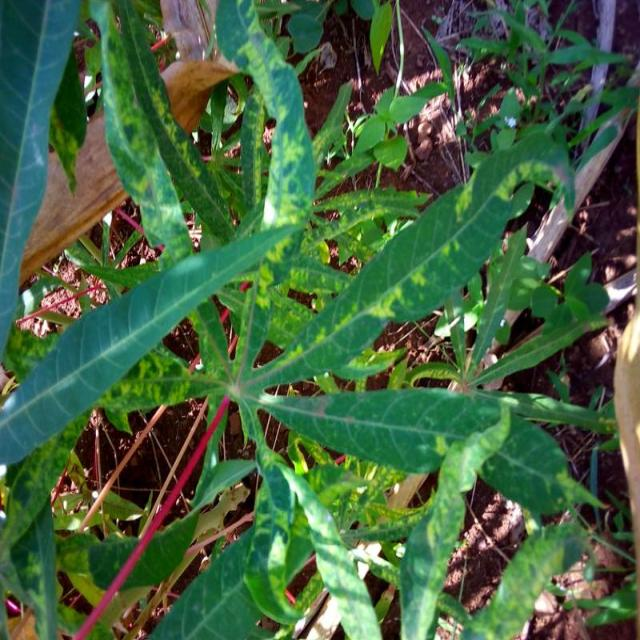cassava leaf: (2, 1, 618, 637), (0, 221, 302, 465)
